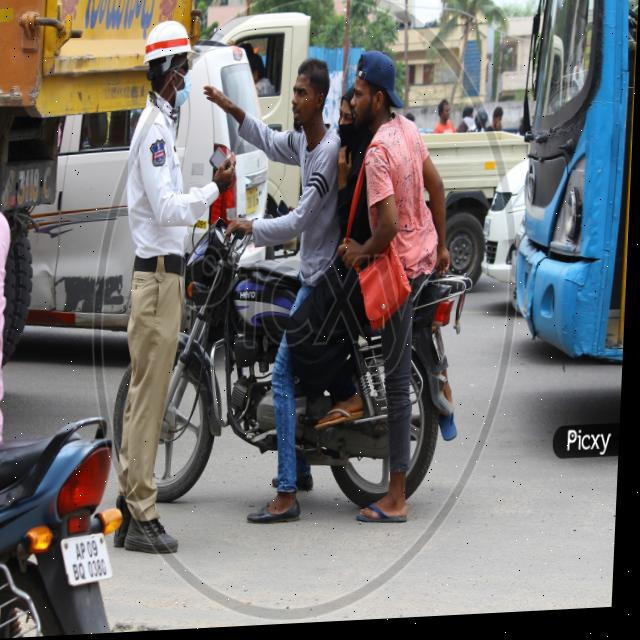without helmet: (293, 60, 333, 145)
